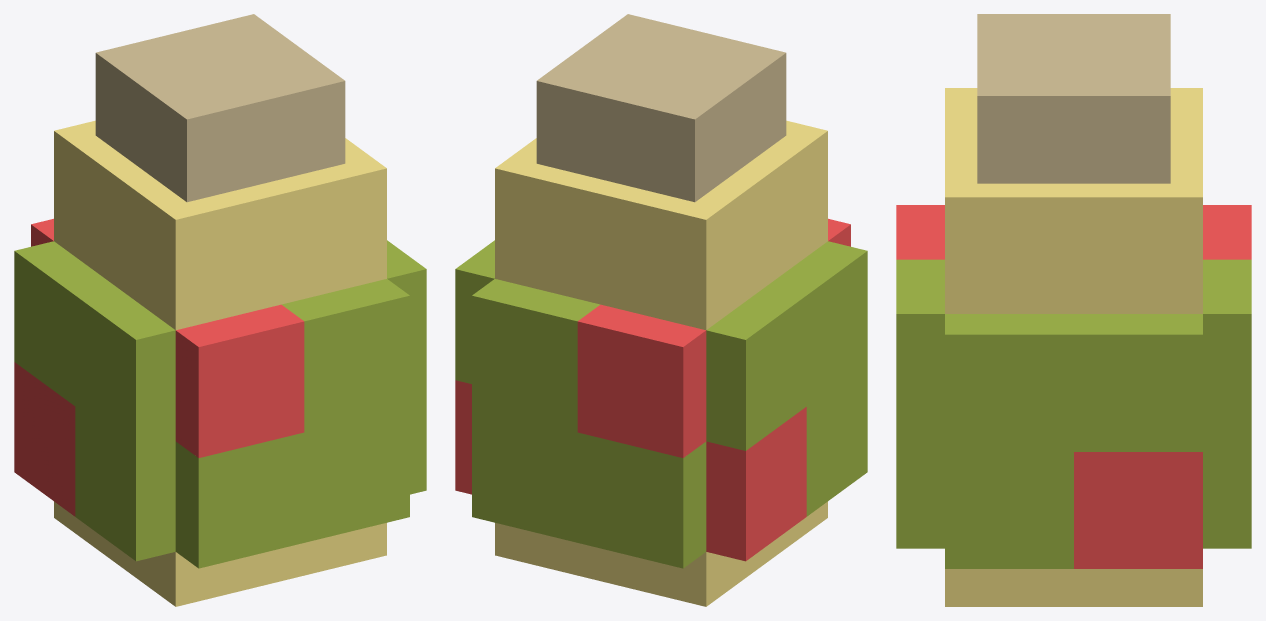
Rendered from egg_tregina.obj.
3 views of the same model, side by side, from view 1: azimuth 30°, elevation 25°; view 2: azimuth 150°, elevation 25°; view 3: azimuth 270°, elevation 25° (orthographic). The views are drawn at different scales.
Parts seen in each view (by area): view 1: egg_tregina; view 2: egg_tregina; view 3: egg_tregina.
Part boxes in pixels (x1,y1,x2,y2): egg_tregina: (14, 14, 426, 606); egg_tregina: (455, 14, 867, 606); egg_tregina: (896, 14, 1251, 606).
Bounding box in the file's own units: 4.74 × 7.32 × 4.74.
